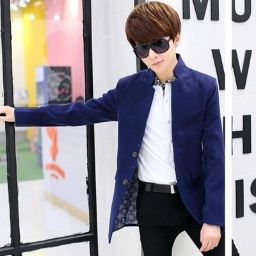face: (125, 1, 183, 72)
